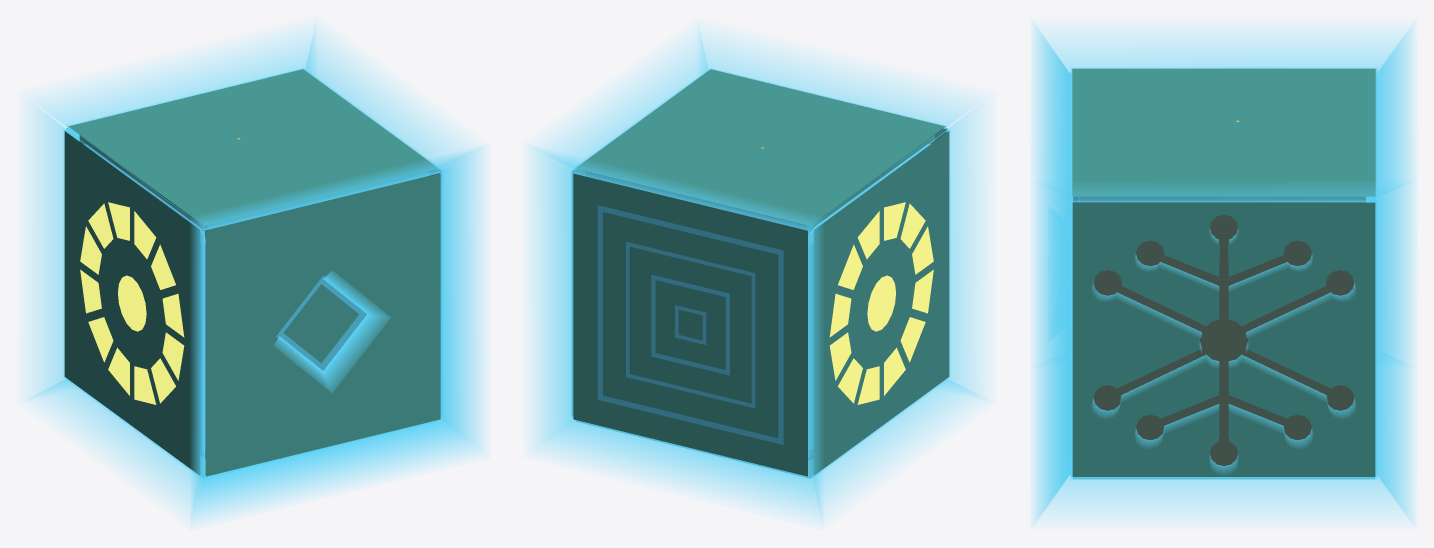
Rendered from puzzlebox.glb.
3 renders of one model, left to right at view 1: azimuth 30°, elevation 25°; view 2: azimuth 150°, elevation 25°; view 3: azimuth 270°, elevation 25°, orthographic. The views are drawn at different scales.
Parts seen in each view (by area): view 1: light-leak, torch-panel, spread-panel, Circle, top-panel, Plane, Plane.001, core, Circle.001, top-cube.042, top-cube.043, top-cube.045 (+44 smaller); view 2: light-leak, zip-panel, spread-panel, core, Circle, top-panel, Circle.001, top-cube.000, top-cube.002, top-cube.005, top-cube.004, top-cube.001 (+42 smaller); view 3: drip-panel, light-leak, drip-path-bg, drip-path-glow, top-panel, Plane, top-cube.041, top-cube.020, top-cube.013, top-cube.006, top-cube.027, top-cube.034 (+44 smaller).
Part boxes in pixels (x1,y1,x2,y2): light-leak: [23, 21, 484, 524]; torch-panel: [206, 173, 440, 476]; spread-panel: [64, 131, 199, 475]; Circle: [80, 202, 184, 404]; top-panel: [68, 69, 437, 225]; Plane: [274, 270, 390, 392]; Plane.001: [283, 284, 358, 363]; core: [83, 144, 366, 460]; Circle.001: [118, 275, 146, 331]; top-cube.042: [189, 200, 238, 238]; top-cube.043: [221, 192, 270, 222]; top-cube.045: [284, 177, 333, 206]; light-leak: [528, 25, 990, 523]; zip-panel: [573, 173, 807, 476]; spread-panel: [813, 131, 949, 475]; core: [597, 144, 930, 459]; Circle: [829, 202, 933, 404]; top-panel: [575, 69, 945, 225]; Circle.001: [867, 275, 895, 331]; top-cube.000: [775, 200, 825, 234]; top-cube.002: [712, 184, 761, 214]; top-cube.005: [617, 161, 666, 191]; top-cube.004: [649, 169, 698, 198]; top-cube.001: [744, 192, 793, 222]; drip-panel: [1072, 202, 1375, 476]; light-leak: [1032, 22, 1415, 525]; drip-path-bg: [1093, 214, 1354, 466]; drip-path-glow: [1092, 228, 1355, 473]; top-panel: [1072, 68, 1375, 196]; Plane: [1048, 206, 1067, 341]; top-cube.041: [1121, 176, 1162, 202]; top-cube.020: [1243, 176, 1284, 202]; top-cube.013: [1284, 176, 1325, 202]; top-cube.006: [1325, 176, 1365, 202]; top-cube.027: [1203, 176, 1243, 202]; top-cube.034: [1162, 176, 1202, 202].
Size of what is drawn, in the model's own units: 2.51 by 2.51 by 2.51.
